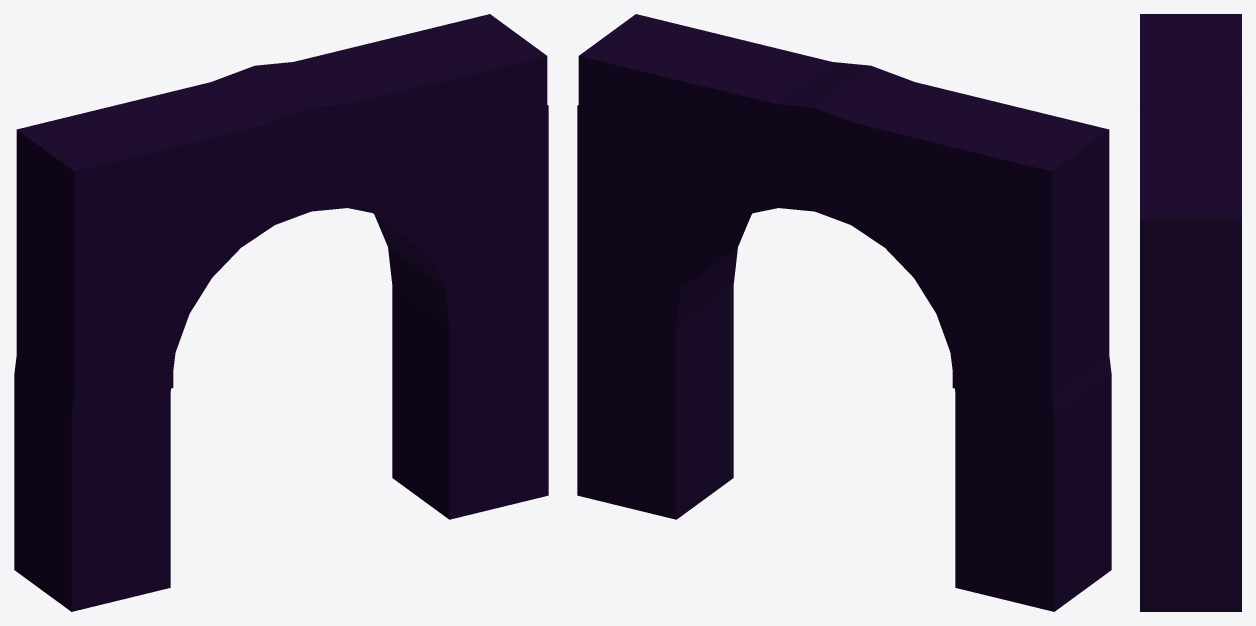
File: portalYana.glb
3 views of the same model, side by side, from view 1: azimuth 30°, elevation 25°; view 2: azimuth 150°, elevation 25°; view 3: azimuth 270°, elevation 25° (orthographic). The views are drawn at different scales.
Visible parts, largest first — view 1: Cube.001; view 2: Cube.001; view 3: Cube.001.
Part boxes in pixels (left/top/right/bottom): Cube.001: left=14, top=14, right=548, bottom=611; Cube.001: left=577, top=14, right=1111, bottom=611; Cube.001: left=1140, top=14, right=1241, bottom=611.
Bounding box in the file's own units: 9.62 × 8.59 × 2.
